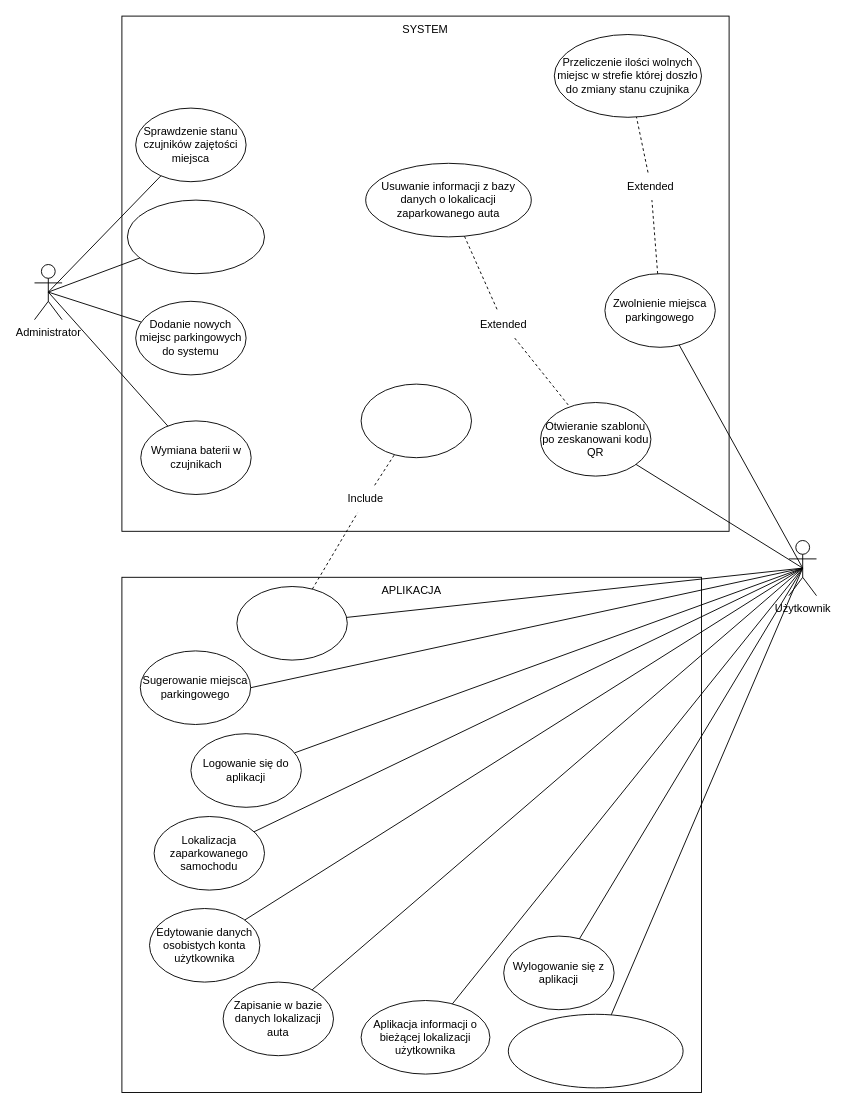
Image size: 846x1109. Some labels were removed from this diagram. Each missing label, with the centre of its shape:
"Generowanie kodów QR" belongs at point 416,420.
"Sprawdzenie ilości dostępnych miejsc parkingowych przez użytkownika na telefonie" belongs at point 595,1050.
"Wysuwanie danych kierowcy do wydrukowania biletu" belongs at point 195,236.
"Zarejestrowaanie nowego kąta" belongs at point 291,623.
